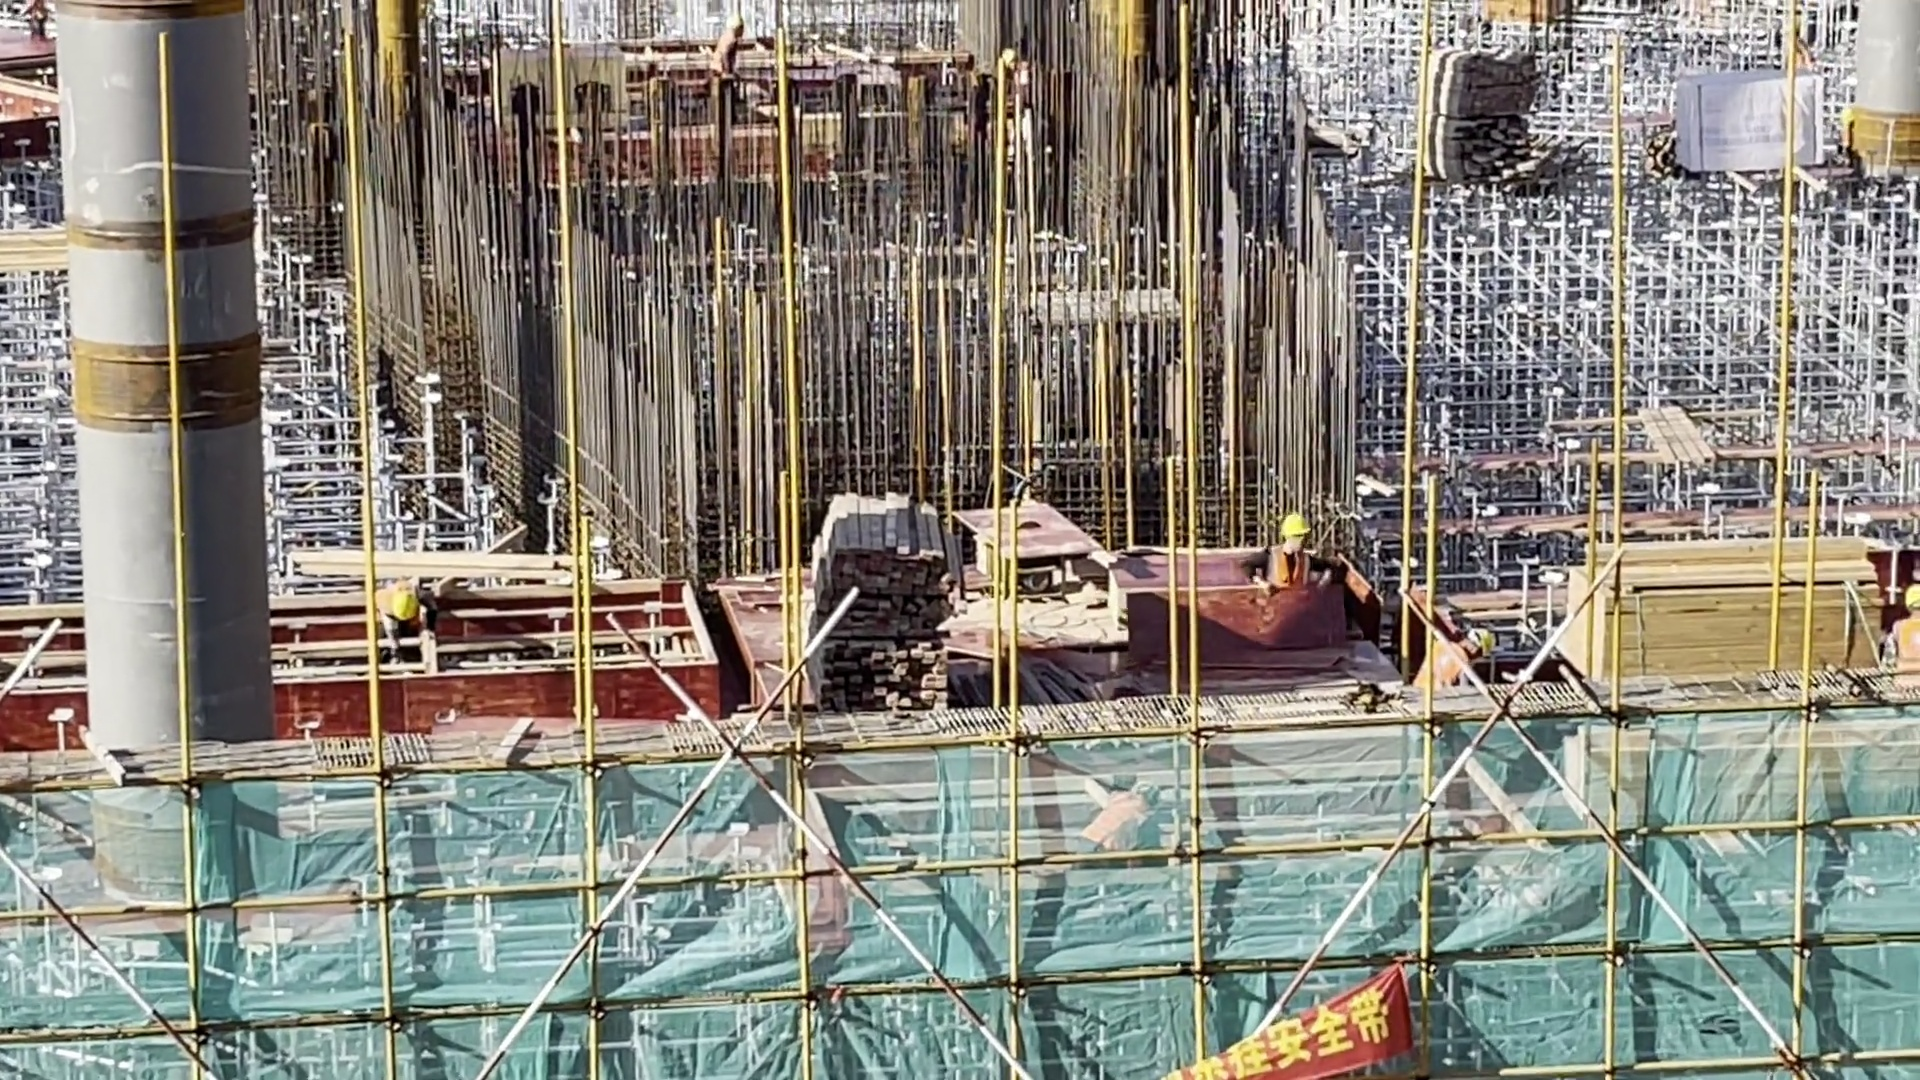helmet: (1275, 502, 1318, 546), (386, 583, 421, 627), (1900, 586, 1919, 608)
person: (1240, 490, 1360, 619), (367, 568, 447, 664), (1874, 572, 1920, 675)
slogan: (1152, 951, 1447, 1080)
vest: (1256, 545, 1326, 595)
wood: (1544, 522, 1896, 715), (801, 461, 958, 713)
